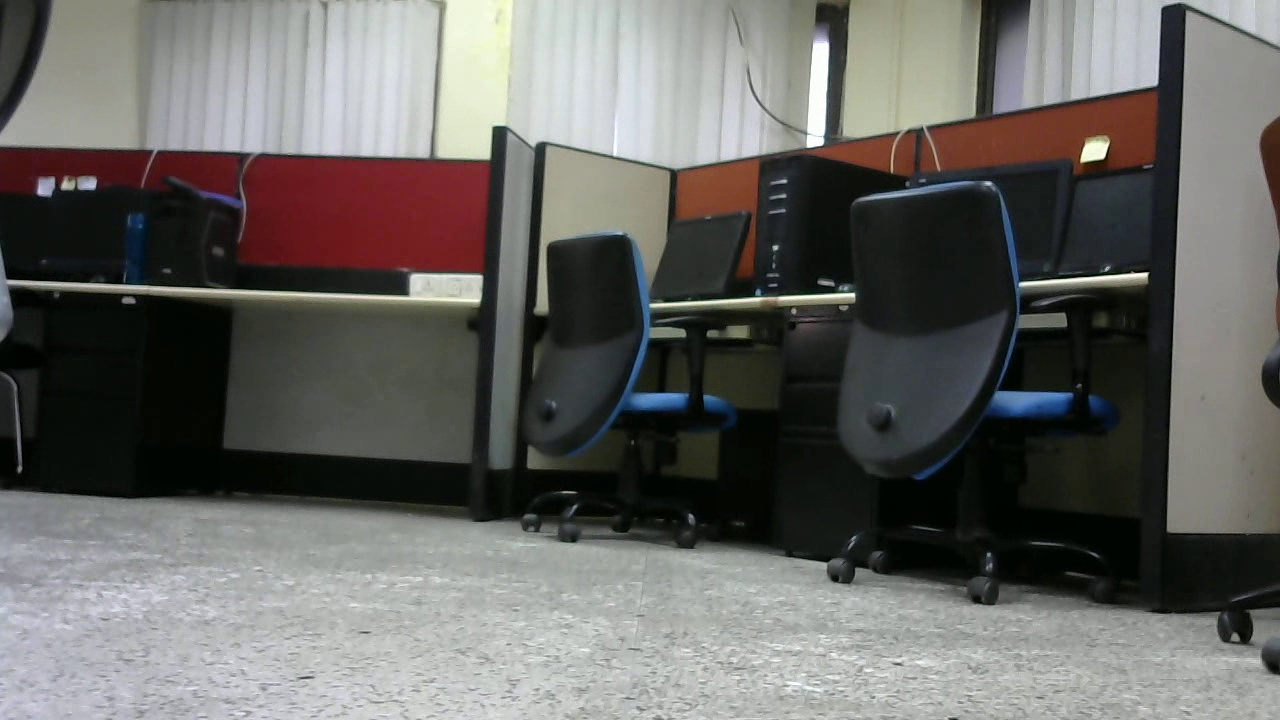chair: (824, 180, 1127, 601), (514, 230, 722, 556)
